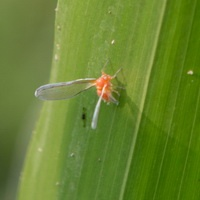insect: (34, 61, 121, 128)
